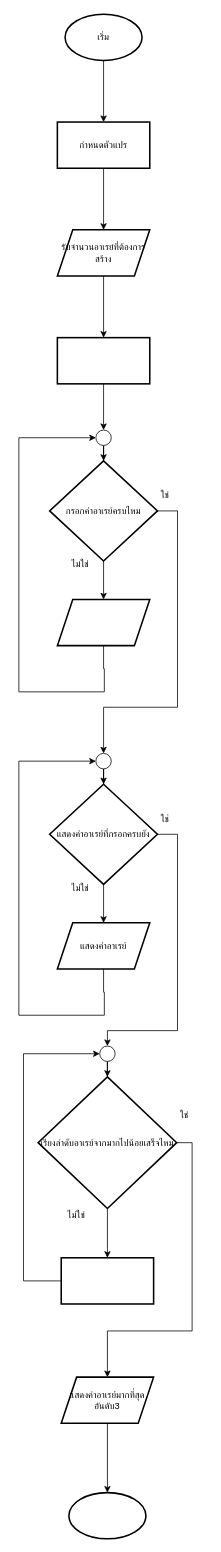
Image size: 221x1552. Some labels were removed from this diagram. The box of each missing label's shape, as (x1, y1, x2, y2) in pixels:
กรอกค่าอาเรย์: (56, 598, 150, 646)
กำหนดตัวแปรอาเรย์: (56, 336, 150, 384)
จบ: (68, 1491, 146, 1539)
เรียงค่าอาเรย์: (60, 1257, 154, 1304)
